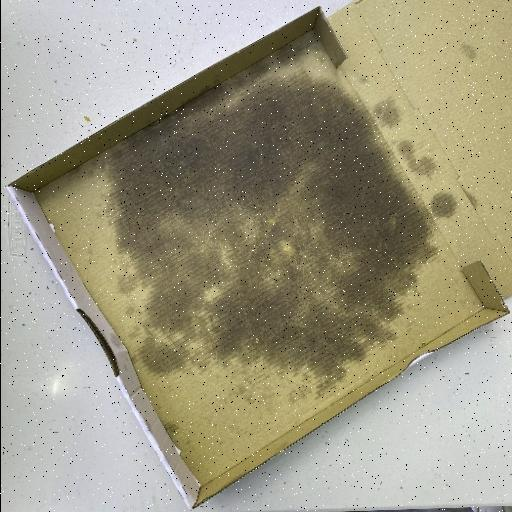Cardboard: (7, 2, 510, 508)
